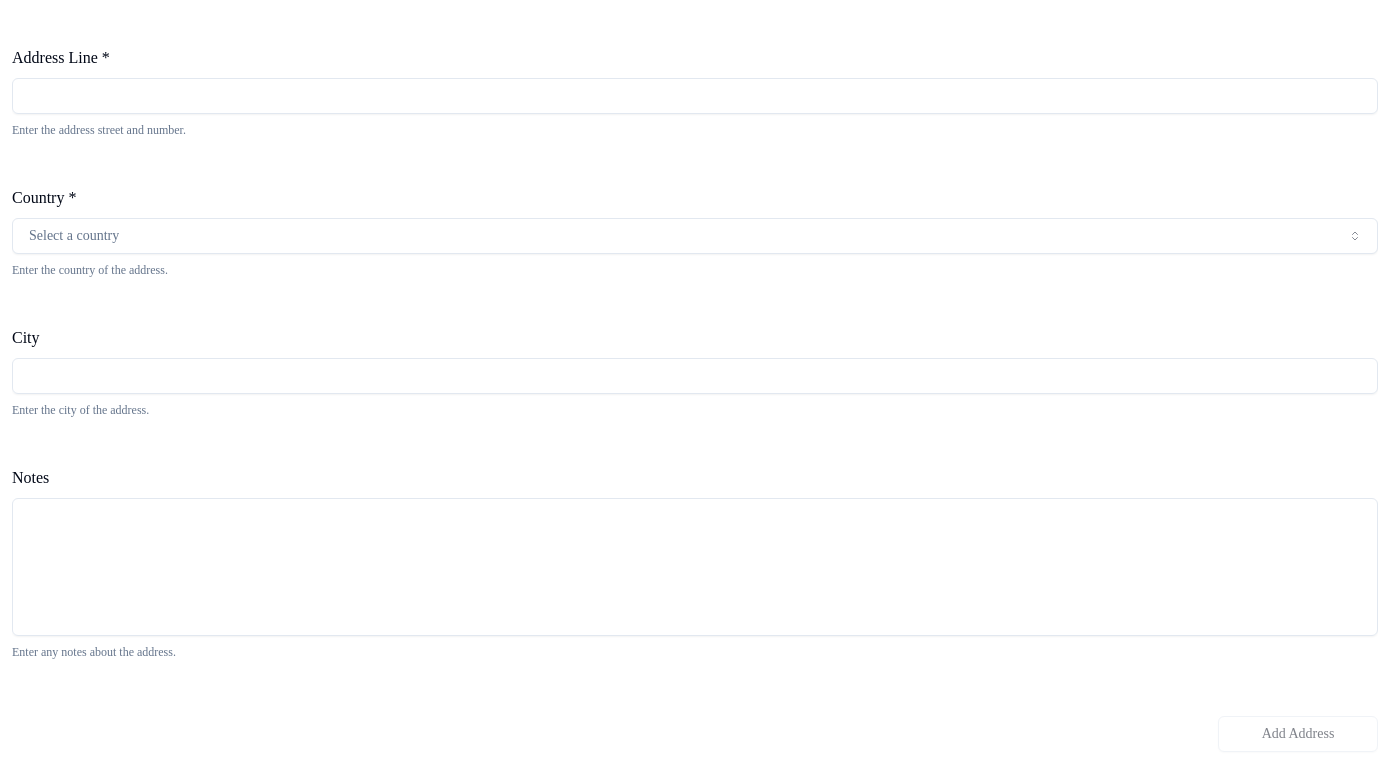
Test: Address Form › should error on empty submit
The image size is (1390, 768).
(page scrolled)
Step 1. Type "a" into the text box with test id "notes-field" → (695, 567), box [12,498,1378,636]
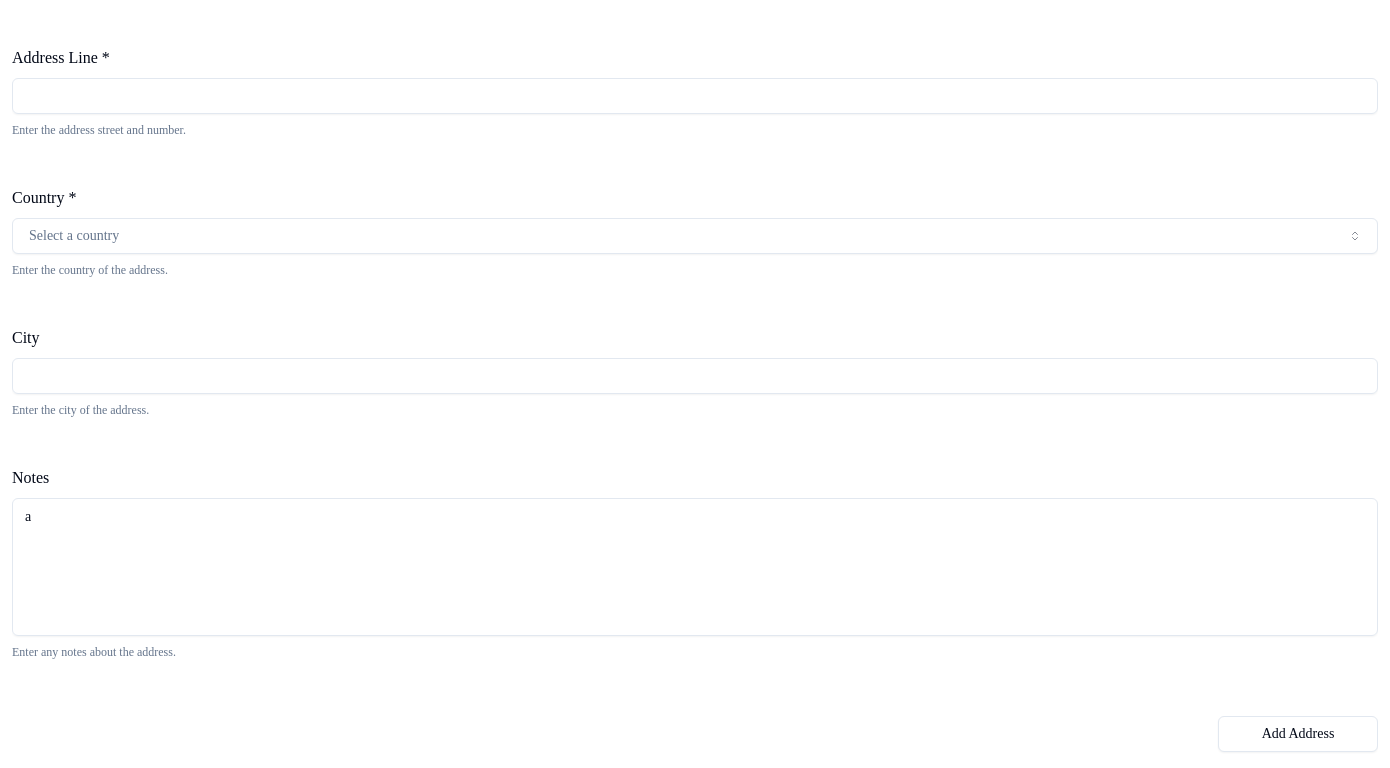
Step 2. Click the button with test id "submit-button" → (1298, 734), box [1218,716,1378,752]
(page scrolled)
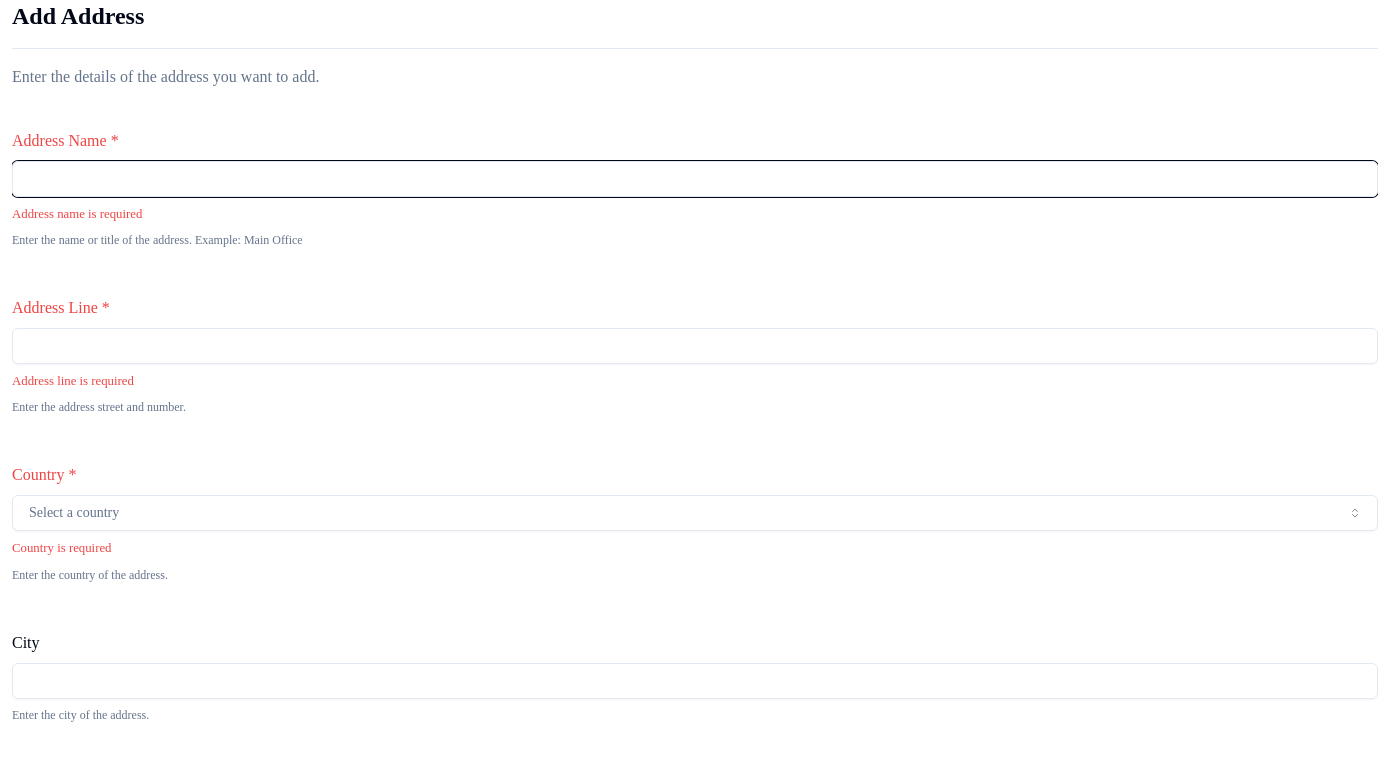
expect the text "Country is required" is shown: met, box [12,541,112,555]
